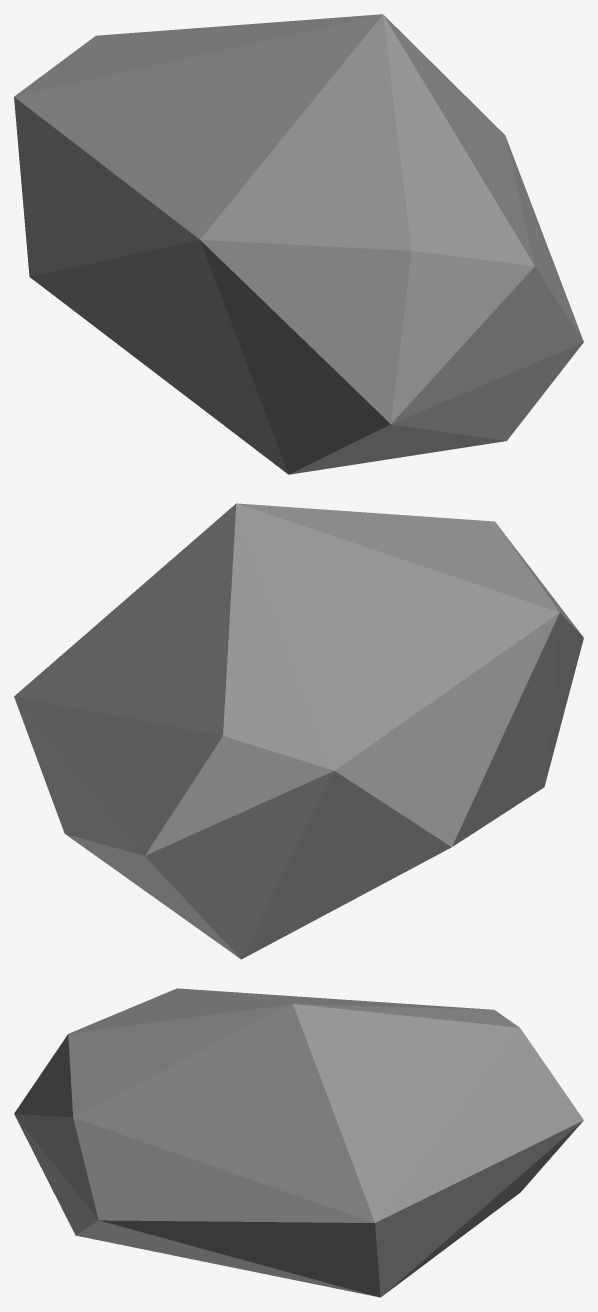
Rendered from SPW_Natures_Stone_08.glb.
The picture shows the model from 3 angles, top to bottom: view 1: azimuth 30°, elevation 25°; view 2: azimuth 150°, elevation 25°; view 3: azimuth 270°, elevation 25°; orthographic projection. The views are drawn at different scales.
Visible parts, largest first — view 1: SPW_Natures_Stone_08; view 2: SPW_Natures_Stone_08; view 3: SPW_Natures_Stone_08.
Part boxes in pixels (x1,y1,x2,y2): SPW_Natures_Stone_08: (14,14,583,474); SPW_Natures_Stone_08: (14,503,583,959); SPW_Natures_Stone_08: (14,988,583,1297).
Size of the model in its own units: 2.14 by 1.45 by 3.01.
Materials: 1 (1 with a texture image).
